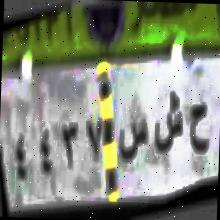3: (60, 108, 82, 170)
4: (34, 121, 58, 181), (12, 129, 32, 186)
7: (84, 112, 102, 164)
7aa: (188, 93, 212, 163)
seen: (118, 110, 150, 166)
sheen: (154, 86, 184, 165)
